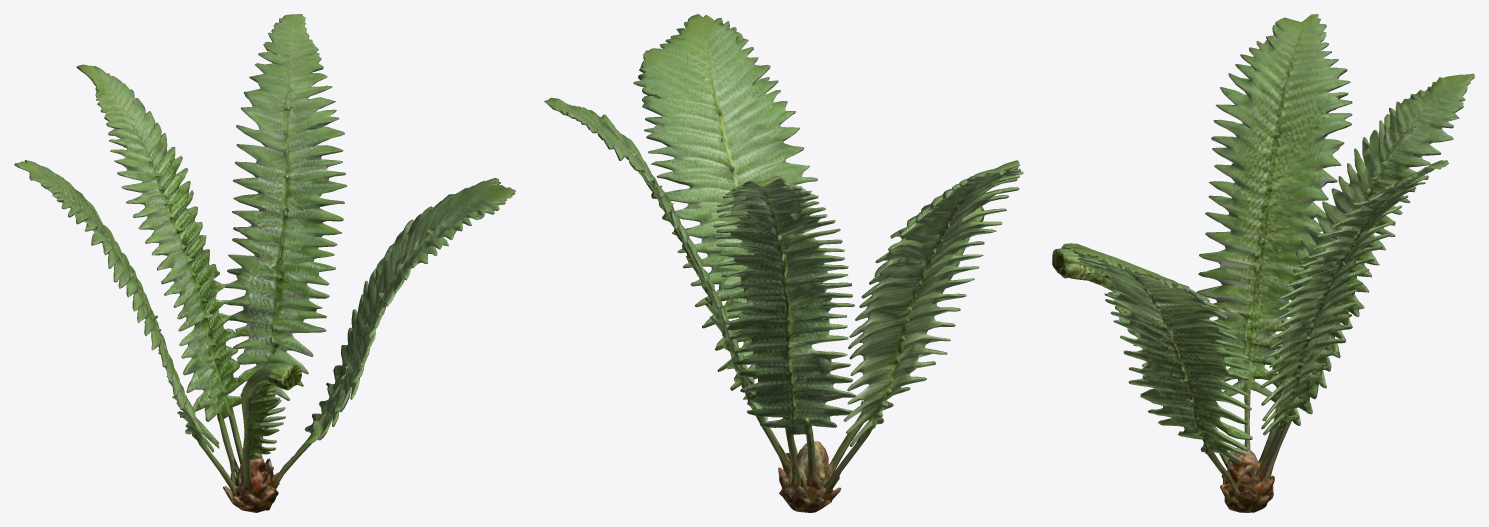
File: fern-frond-v6-lod.glb
3 views of the same model, side by side, from view 1: azimuth 30°, elevation 25°; view 2: azimuth 150°, elevation 25°; view 3: azimuth 270°, elevation 25° (orthographic). The views are drawn at different scales.
Parts seen in each view (by area): view 1: geometry_0; view 2: geometry_0; view 3: geometry_0.
Part boxes in pixels (bbox=[...]): geometry_0: bbox=[14, 14, 515, 512]; geometry_0: bbox=[544, 14, 1023, 512]; geometry_0: bbox=[1052, 14, 1474, 512].
Bounding box in the file's own units: 0.5993 × 0.5615 × 0.5218.
1 material, 1 textured.
